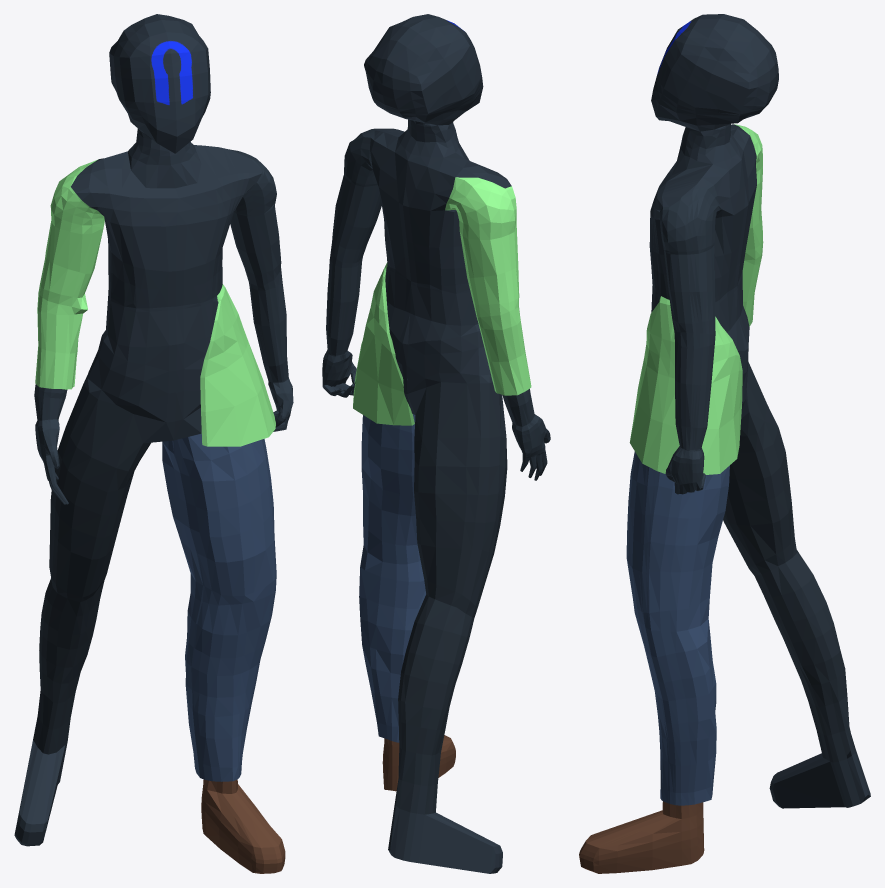
File: Mar_Recover_000002.obj
3 renders of one model, left to right at view 1: azimuth 30°, elevation 25°; view 2: azimuth 150°, elevation 25°; view 3: azimuth 270°, elevation 25°, orthographic. The views are drawn at different scales.
Visible parts, largest first — view 1: Cube.000_Cube.001; view 2: Cube.000_Cube.001; view 3: Cube.000_Cube.001.
Boxes of the visible parts, box(x1,y1,x2,y2) form: Cube.000_Cube.001: box(14, 14, 293, 873); Cube.000_Cube.001: box(322, 14, 550, 873); Cube.000_Cube.001: box(579, 14, 870, 873).
Bounding box in the file's own units: 1.19 × 3.99 × 1.27.
